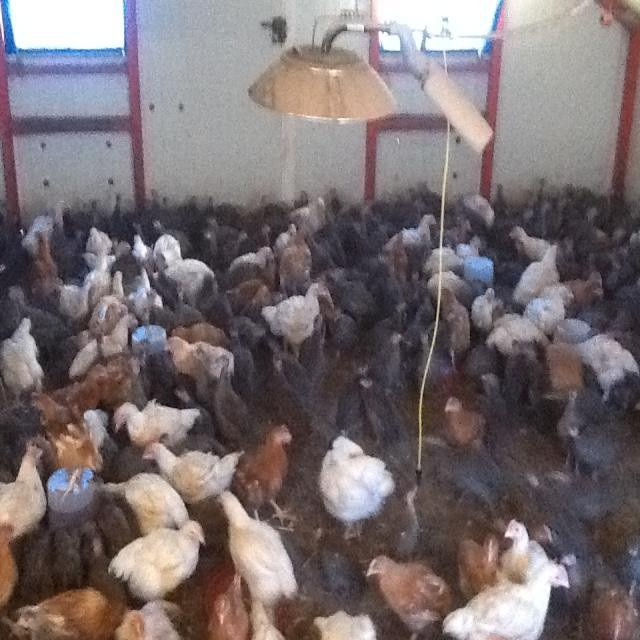poussin: (442, 559, 582, 640), (217, 495, 311, 610), (116, 511, 212, 596), (42, 394, 101, 520), (368, 549, 448, 628), (319, 442, 386, 536), (141, 442, 243, 500), (116, 472, 194, 544), (256, 279, 327, 357), (237, 423, 300, 506), (59, 352, 155, 406), (46, 514, 114, 588), (0, 440, 51, 538), (584, 332, 640, 417), (14, 593, 115, 640), (261, 353, 314, 442), (336, 381, 404, 448), (73, 308, 141, 372), (114, 397, 198, 448), (208, 354, 254, 446), (426, 386, 489, 453), (501, 340, 548, 426), (59, 248, 112, 323), (374, 259, 424, 337), (550, 344, 602, 414), (0, 315, 40, 403), (166, 334, 236, 382), (556, 200, 604, 268), (367, 318, 411, 392), (378, 490, 422, 562), (202, 567, 245, 640), (512, 248, 567, 305), (116, 597, 187, 640), (504, 514, 550, 578), (84, 271, 128, 337), (554, 386, 606, 441), (492, 308, 538, 366), (382, 210, 440, 256), (305, 606, 381, 640), (436, 286, 468, 366), (610, 510, 640, 595), (164, 257, 216, 306), (600, 577, 640, 640), (322, 537, 358, 606), (418, 262, 479, 302), (166, 186, 220, 230), (534, 287, 576, 342), (233, 238, 280, 287), (17, 197, 57, 252), (572, 431, 620, 476), (568, 262, 608, 316), (459, 289, 508, 333), (468, 526, 503, 586), (35, 226, 63, 301), (606, 216, 640, 274), (234, 270, 270, 324), (328, 300, 360, 359), (280, 240, 319, 288), (290, 194, 332, 237), (406, 174, 444, 219), (143, 187, 176, 236), (0, 515, 17, 609), (524, 177, 550, 236), (558, 174, 584, 232), (267, 221, 301, 265), (322, 176, 345, 232), (84, 228, 120, 262), (153, 229, 180, 271), (489, 183, 512, 229), (248, 600, 274, 640), (84, 196, 109, 236), (135, 266, 152, 323), (252, 188, 272, 235), (110, 188, 128, 232), (129, 231, 151, 263)
